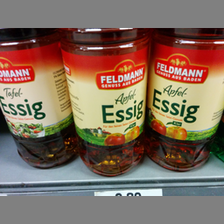vinegar: (62, 28, 151, 176), (146, 29, 224, 174), (1, 29, 74, 168)
